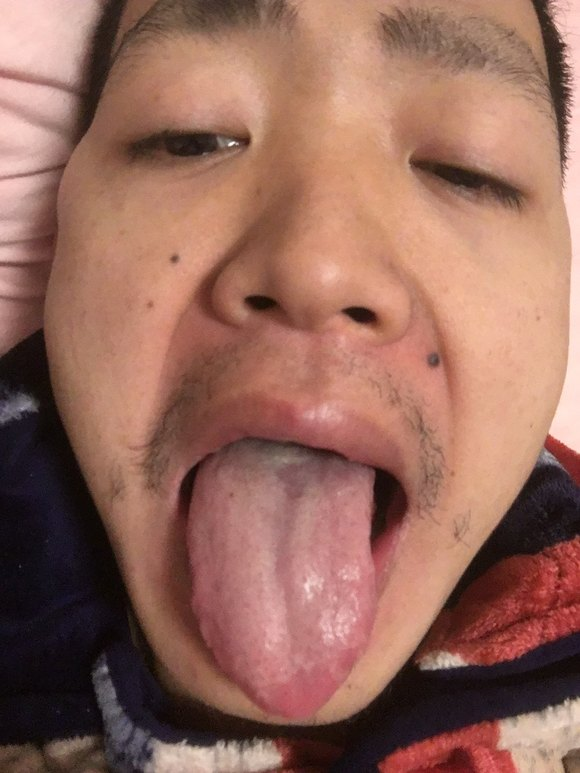baitaishe: (187, 438, 376, 716)
botaishe: (267, 448, 353, 503)
hongshe: (187, 438, 376, 716)
